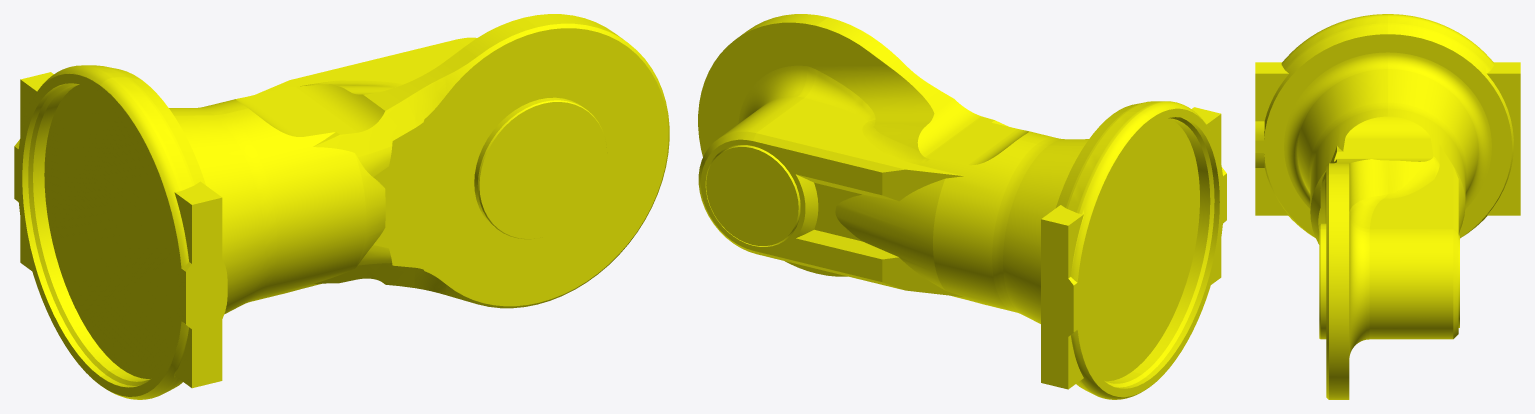
3 renders of one model, left to right at view 1: azimuth 30°, elevation 25°; view 2: azimuth 150°, elevation 25°; view 3: azimuth 270°, elevation 25°, orthographic. The views are drawn at different scales.
Visible parts, largest first — view 1: Mesh_0; view 2: Mesh_0; view 3: Mesh_0.
Boxes of the visible parts, <box> form: Mesh_0: <box>14,14,669,399</box>; Mesh_0: <box>698,14,1226,399</box>; Mesh_0: <box>1255,14,1520,399</box>.
Bounding box in the file's own units: 0.3488 × 0.195 × 0.1942.
